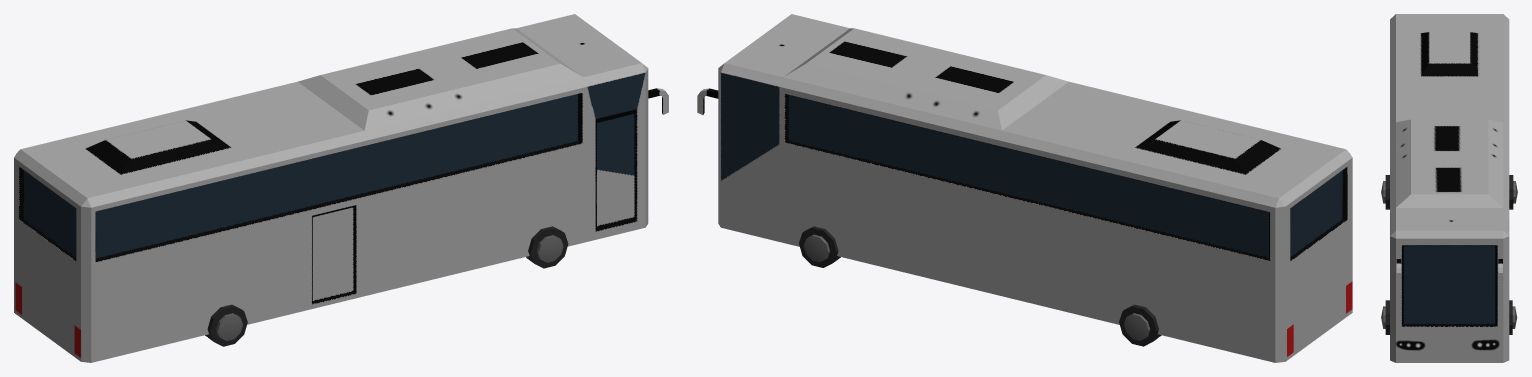
File: SM_Bus.fbx
3 renders of one model, left to right at view 1: azimuth 30°, elevation 25°; view 2: azimuth 150°, elevation 25°; view 3: azimuth 270°, elevation 25°, orthographic. The views are drawn at different scales.
Parts seen in each view (by area): view 1: SM_BusMirror2; view 2: SM_BusMirror2; view 3: SM_BusMirror2.
Part boxes in pixels (x1,y1,x2,y2): SM_BusMirror2: [14, 14, 668, 362]; SM_BusMirror2: [697, 14, 1352, 362]; SM_BusMirror2: [1381, 14, 1517, 362].
Size of the model in its own units: 1141 by 344 by 287.
1 material, 1 textured.
